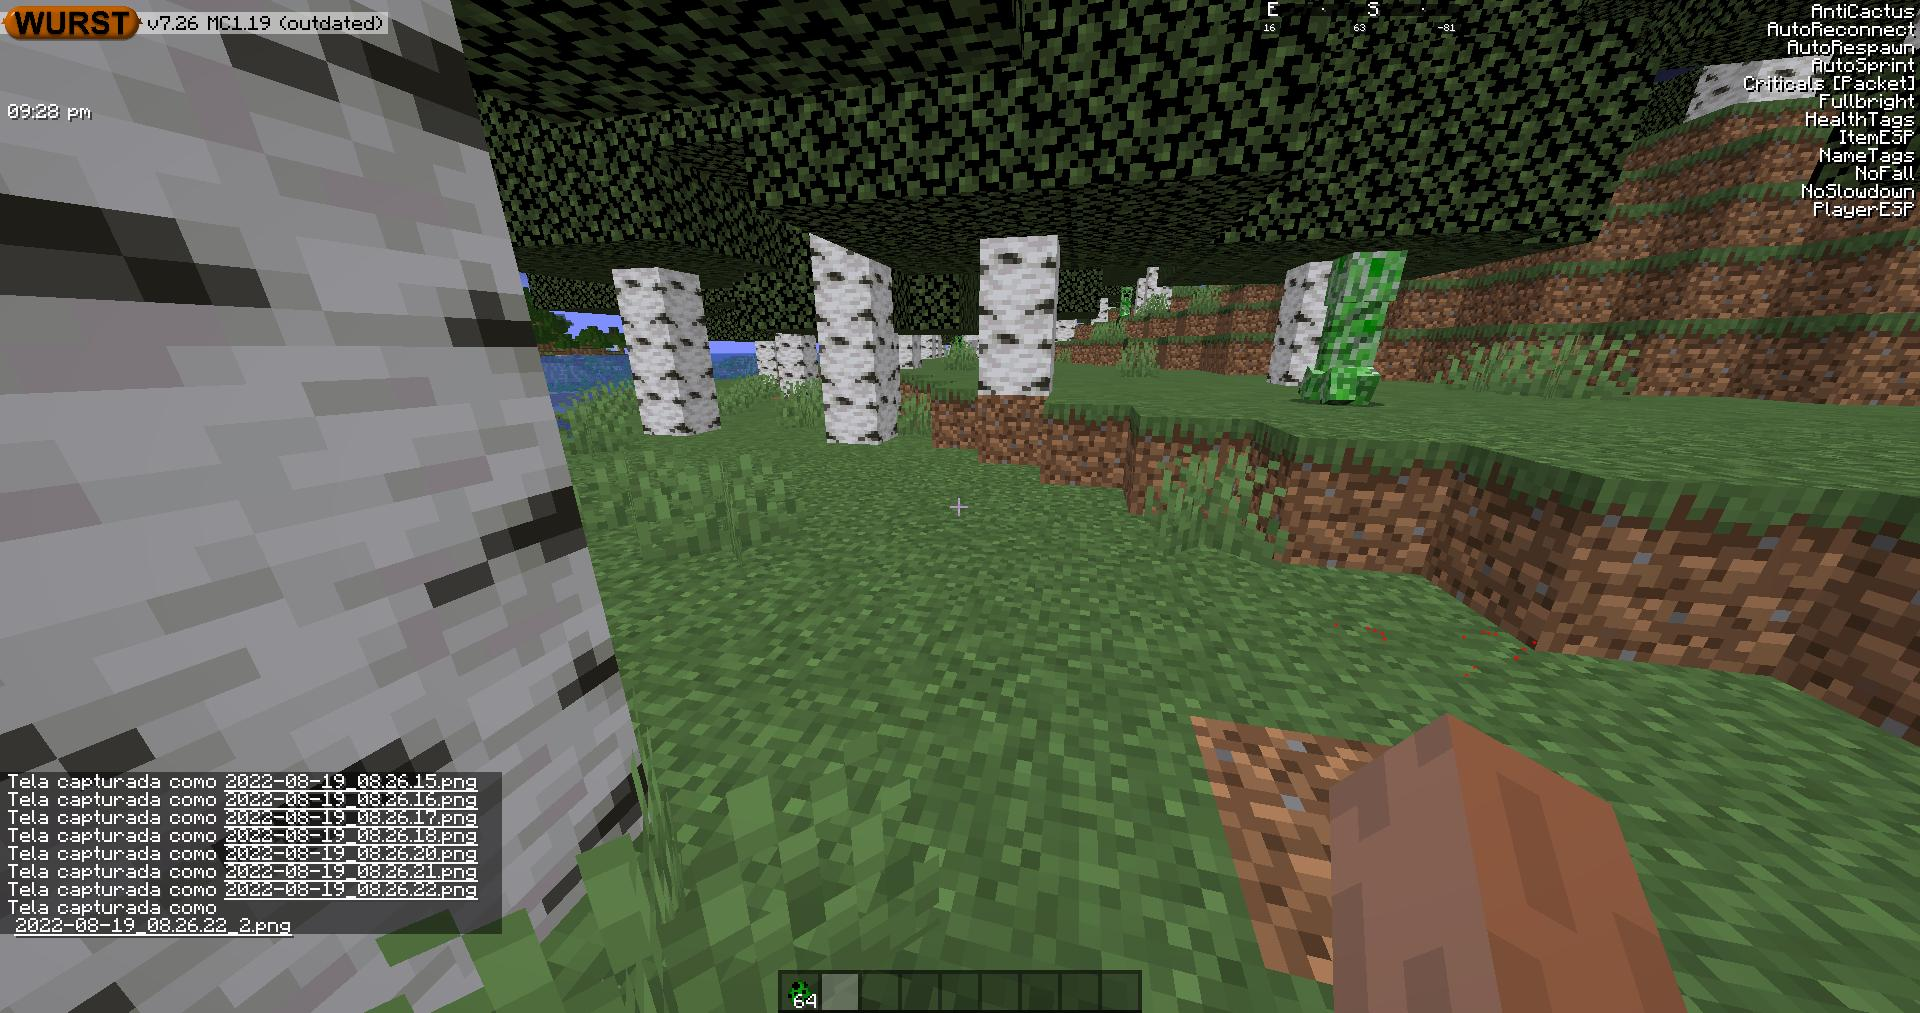creeper: (1303, 249, 1404, 399), (1114, 277, 1138, 319)
